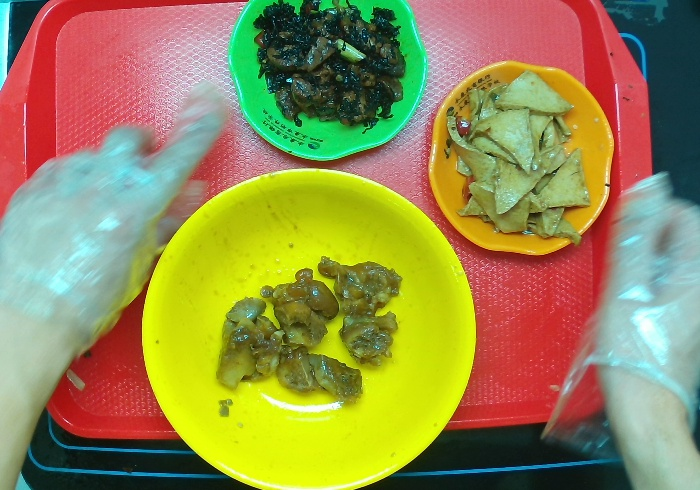YKMZ-Huang_Se_Tang_Wan: (135, 160, 479, 490)
YKMZ-Ju_Se_Ao_Bian_Wan: (424, 57, 621, 262)
YKMZ-Lv_Se_Ao_Bian_Wan: (221, 1, 431, 167)
